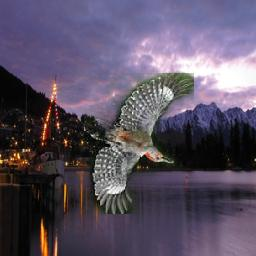Woodpecker: (84, 74, 194, 215)
